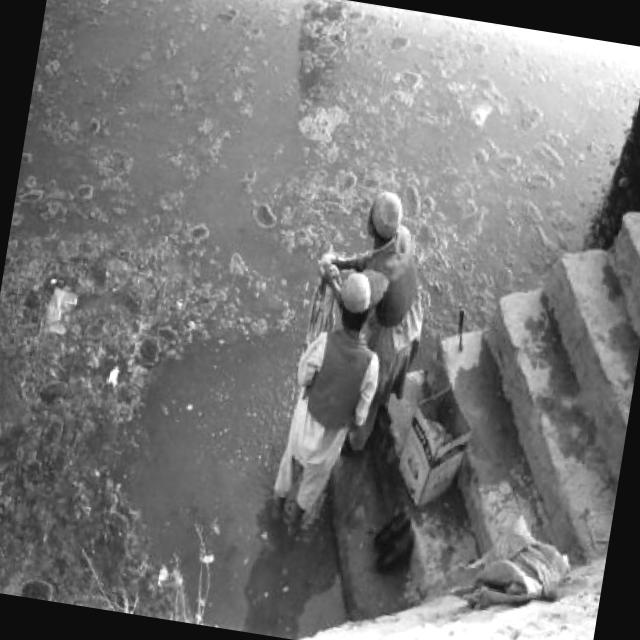Person: (286, 177, 448, 470), (268, 264, 395, 544)
